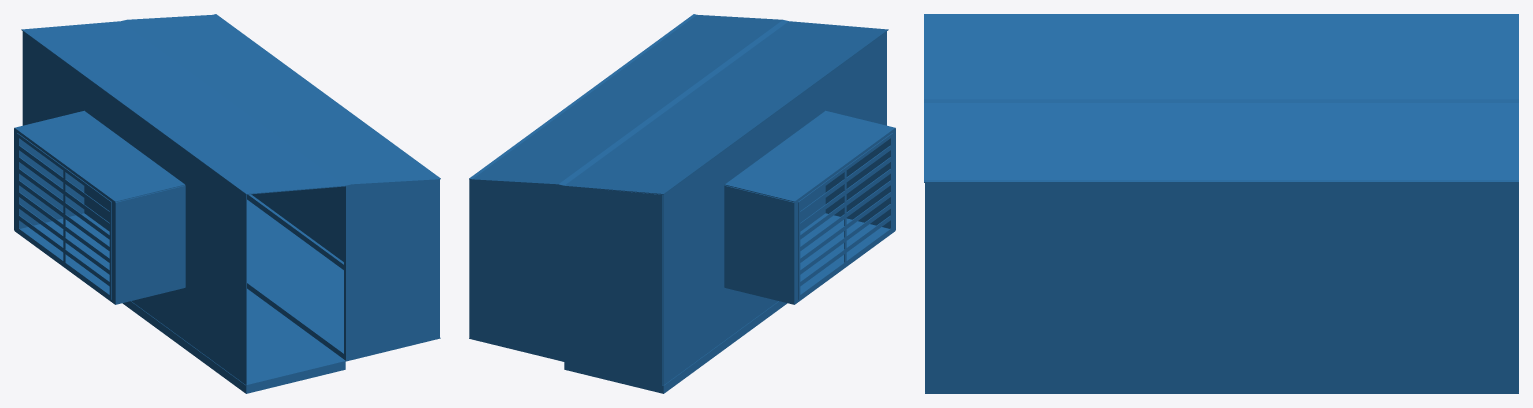
File: Phase13.fbx
The picture shows the model from 3 angles, left to right: view 1: azimuth 30°, elevation 25°; view 2: azimuth 150°, elevation 25°; view 3: azimuth 270°, elevation 25°; orthographic projection. The views are drawn at different scales.
Visible parts, largest first — view 1: Семейство4:Семейство4:270490 (×2), Семейство3r:Семейство3r:275130, ral5015, Стальной лист (ГОСТ 19903-74) Балки:Лист 10х1450:273100, Стальной лист (ГОСТ 19903-74) Балки:Лист 12х1480:259031, Стальной лист (ГОСТ 19903-74) Балки:Лист 12х1100:258993, Стальной лист (ГОСТ 19903-74) Балки:Лист 10х1500:273100, Семейство3r:Семейство3r:269172, Стальной лист (ГОСТ 19903-74) Балки:Лист 12х1100:258729, Стальной лист (ГОСТ 19903-74) Балки:Лист 12х1480:259446, Швеллер_с_параллельными_полками_ГОСТ_8240-97_Балка:[ 12P:257 (×2), Профили_гнутые_замкнутые_сварные_прямоугольные_ГОСТ 30245-20 (×2) (+10 smaller); view 2: Семейство4:Семейство4:270490 (×2), Семейство3r:Семейство3r:275130, Семейство2:Семейство2:265961, ral5015, Стальной лист (ГОСТ 19903-74) Балки:Лист 12х1480:259446, Стальной лист (ГОСТ 19903-74) Балки:Лист 12х1100:258993, Стальной лист (ГОСТ 19903-74) Балки:Лист 12х1100:258729, Стальной лист (ГОСТ 19903-74) Балки:Лист 12х1480:259031, Швеллер_с_параллельными_полками_ГОСТ_8240-97_Балка:[ 12P:257 (×2), Каркас несущий 1:Каркас несущий 1:262162, Стальной лист (ГОСТ 19903-74) Балки:Лист 10х65:260568, Стальной лист (ГОСТ 19903-74) Балки:Лист 10х65:260339 (+7 smaller); view 3: Семейство3r:Семейство3r:269172, Семейство4:Семейство4:270490 (×2), Стальной лист (ГОСТ 19903-74) Балки:Лист 10х1450:273100.
Part boxes in pixels (box(x1,y1,x2,y2)): Семейство4:Семейство4:270490 (×2): box(21, 14, 440, 194); Семейство3r:Семейство3r:275130: box(22, 31, 246, 384); ral5015: box(345, 179, 439, 360); Стальной лист (ГОСТ 19903-74) Балки:Лист 10х1450:273100: box(247, 199, 440, 361); Стальной лист (ГОСТ 19903-74) Балки:Лист 12х1480:259031: box(115, 185, 185, 304); Стальной лист (ГОСТ 19903-74) Балки:Лист 12х1100:258993: box(14, 110, 184, 202); Стальной лист (ГОСТ 19903-74) Балки:Лист 10х1500:273100: box(131, 289, 345, 385); Семейство3r:Семейство3r:269172: box(251, 186, 343, 261); Стальной лист (ГОСТ 19903-74) Балки:Лист 12х1100:258729: box(14, 213, 184, 304); Стальной лист (ГОСТ 19903-74) Балки:Лист 12х1480:259446: box(14, 128, 84, 229); Швеллер_с_параллельными_полками_ГОСТ_8240-97_Балка:[ 12P:257 (×2): box(122, 301, 345, 393); Профили_гнутые_замкнутые_сварные_прямоугольные_ГОСТ 30245-20 (×2): box(247, 194, 345, 360); Семейство4:Семейство4:270490 (×2): box(469, 14, 888, 194); Семейство3r:Семейство3r:275130: box(662, 31, 886, 384); Семейство2:Семейство2:265961: box(563, 186, 662, 384); ral5015: box(469, 179, 563, 360); Стальной лист (ГОСТ 19903-74) Балки:Лист 12х1480:259446: box(724, 185, 794, 304); Стальной лист (ГОСТ 19903-74) Балки:Лист 12х1100:258993: box(725, 110, 895, 202); Стальной лист (ГОСТ 19903-74) Балки:Лист 12х1100:258729: box(725, 213, 895, 304); Стальной лист (ГОСТ 19903-74) Балки:Лист 12х1480:259031: box(825, 128, 895, 229); Швеллер_с_параллельными_полками_ГОСТ_8240-97_Балка:[ 12P:257 (×2): box(564, 301, 787, 393); Каркас несущий 1:Каркас несущий 1:262162: box(794, 129, 895, 303); Стальной лист (ГОСТ 19903-74) Балки:Лист 10х65:260568: box(798, 180, 892, 251); Стальной лист (ГОСТ 19903-74) Балки:Лист 10х65:260339: box(798, 215, 892, 286); Семейство3r:Семейство3r:269172: box(926, 183, 1517, 392); Семейство4:Семейство4:270490 (×2): box(924, 14, 1518, 182); Стальной лист (ГОСТ 19903-74) Балки:Лист 10х1450:273100: box(925, 392, 1518, 393).
Bounding box in the file's own units: 4026 × 5930 × 2918.
